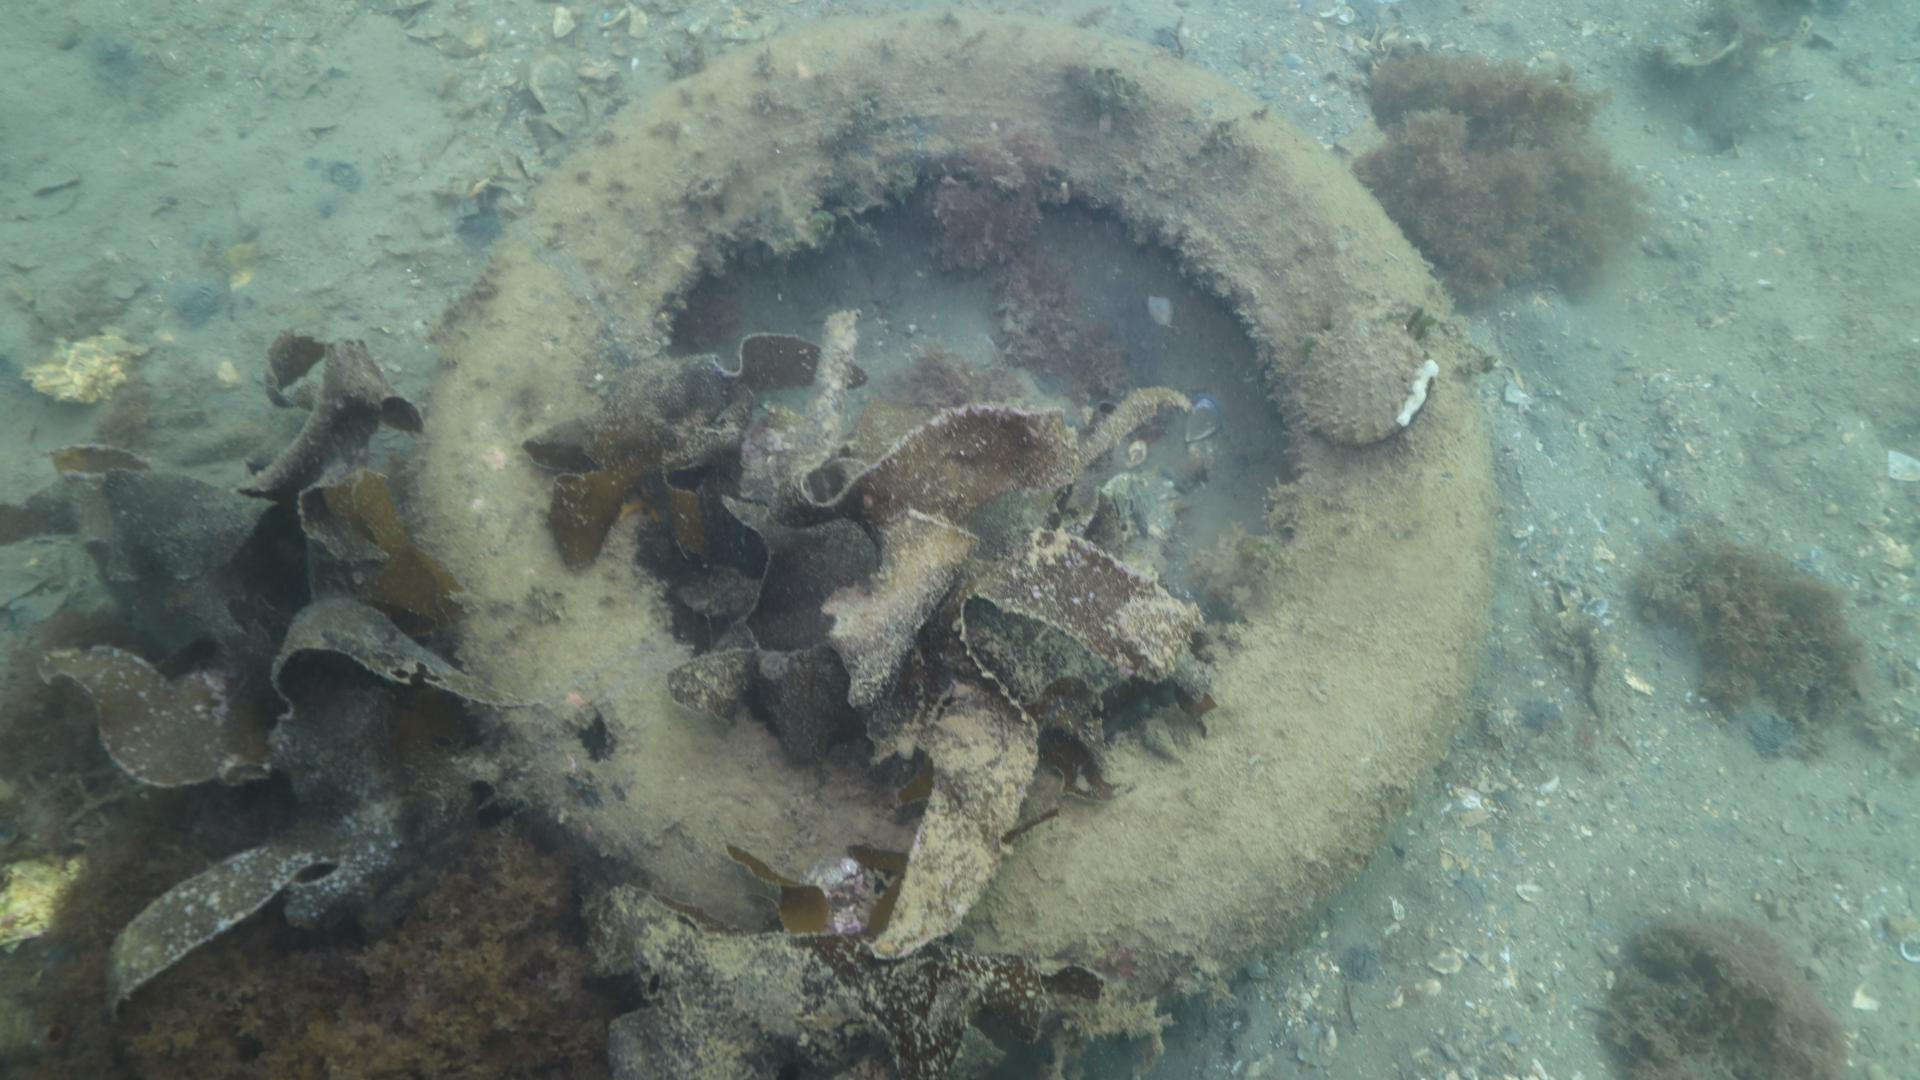tire: (407, 7, 1501, 1030)
